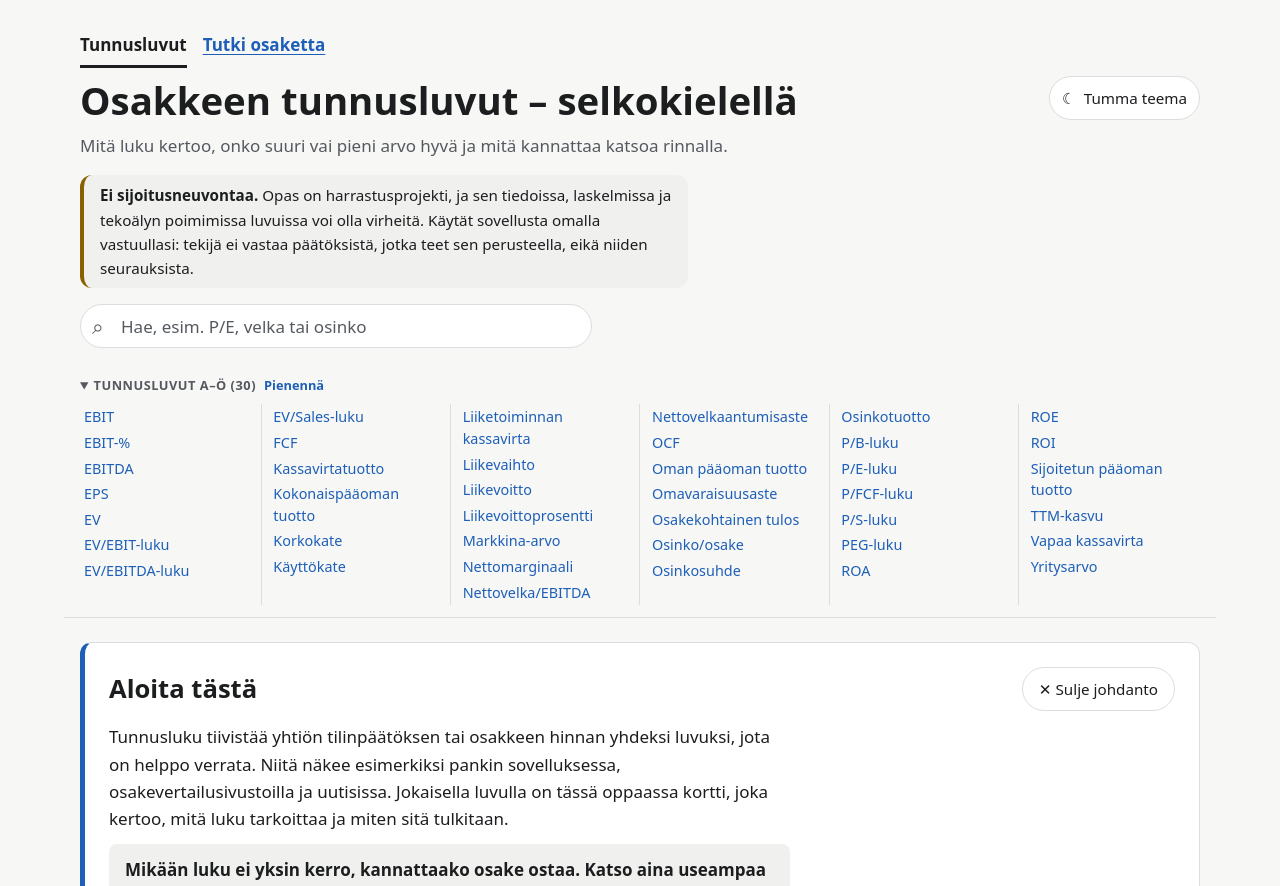
Test: IntroPanel › näkyy ensimmäisellä käynnillä, ja sulkeminen muistetaan
Click the button "✕ Sulje johdanto": (1098, 689) [1022,667,1175,711]
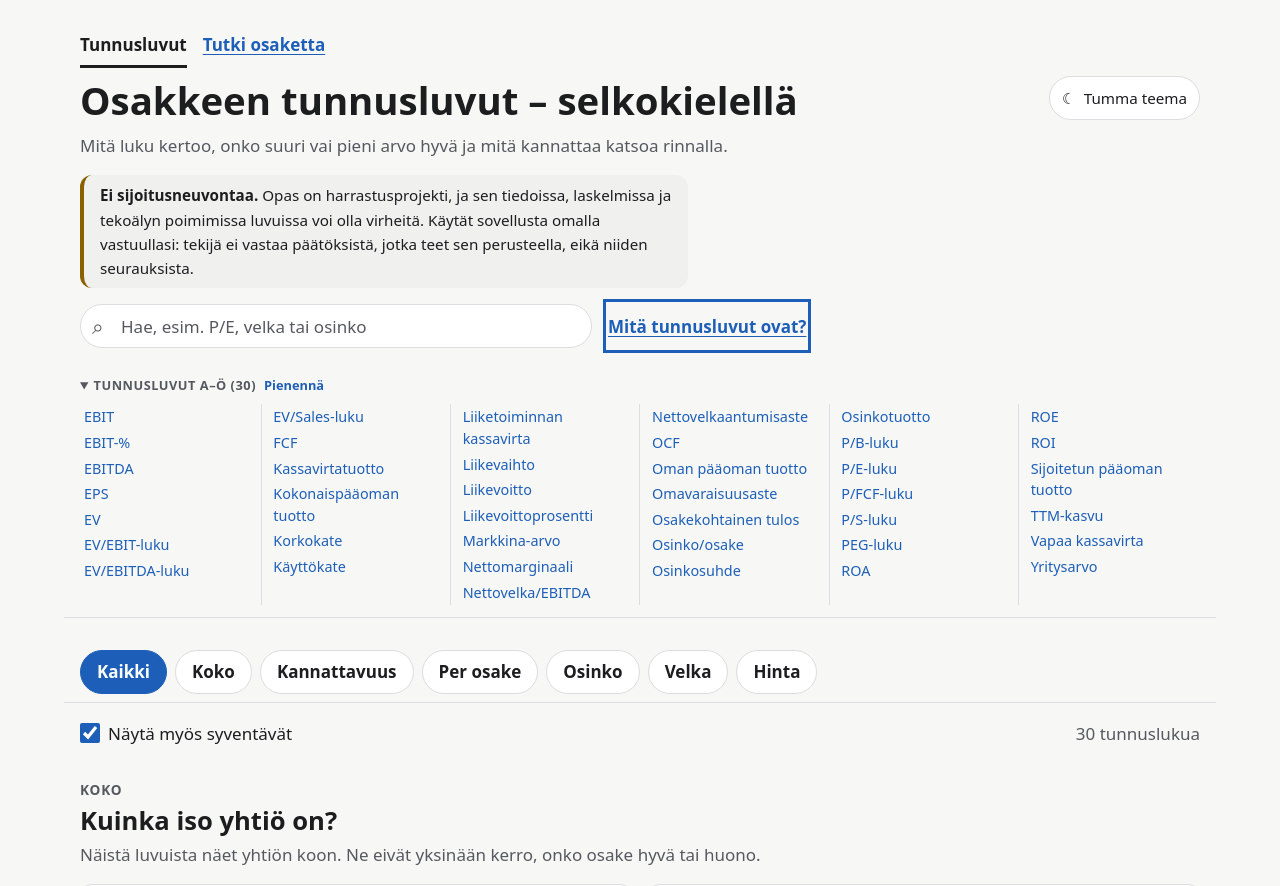
Expected: the heading "Aloita tästä" is gone
